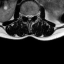CCS_normal: (28, 12, 30, 23)
LFS_stenosis: (33, 11, 36, 19)
LLS_normal: (30, 11, 33, 20)
RFS_normal: (23, 11, 26, 19)
RLS_normal: (26, 12, 28, 20)
